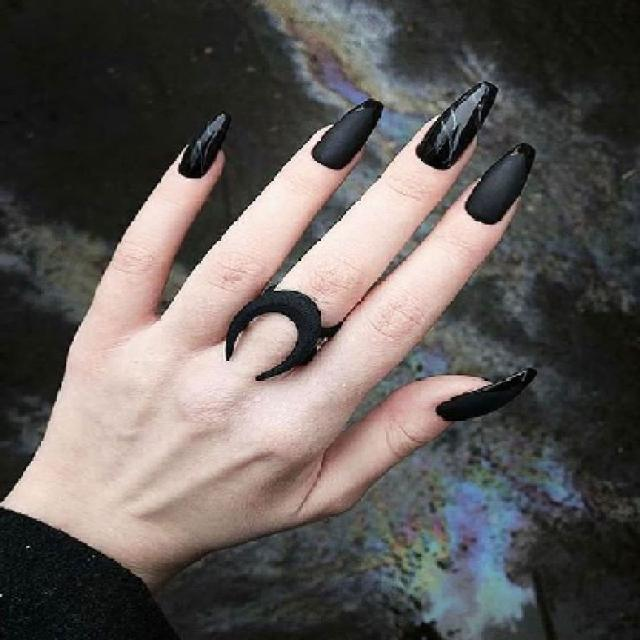Nail: (418, 81, 498, 169), (465, 144, 535, 224), (436, 370, 536, 420), (312, 99, 382, 168), (180, 112, 230, 177)
